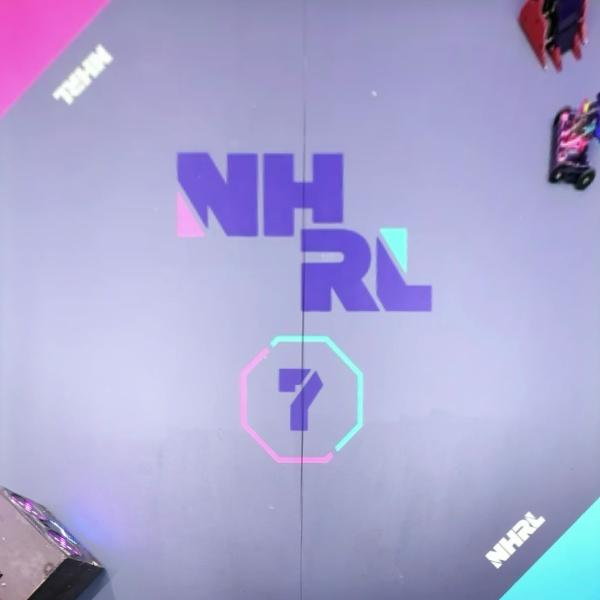housebot: (0, 485, 108, 600)
robot: (547, 90, 600, 191), (516, 0, 591, 69)
